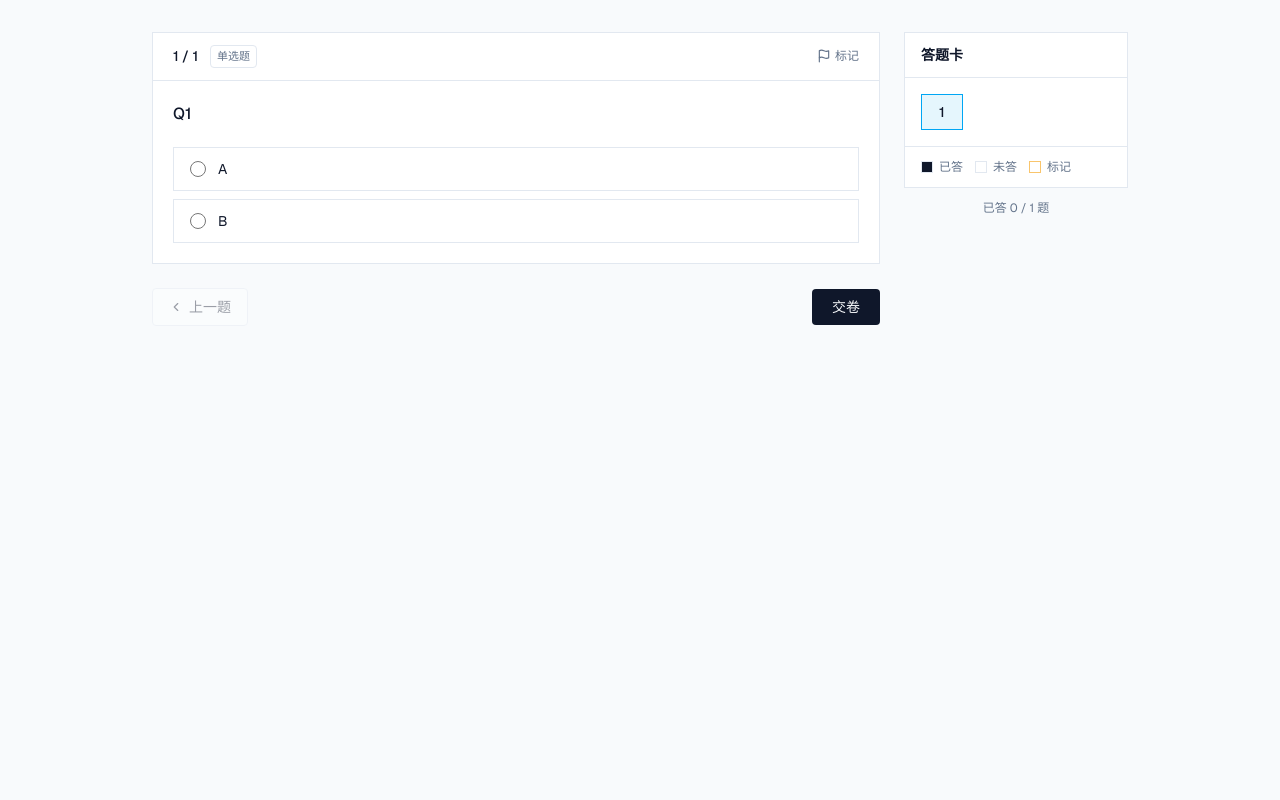
it: QuizPlayer - dialog accessibility › 按 ESC 键应关闭确认对话框
The image size is (1280, 800).
# 直接点击交卷（不答题，触发确认弹窗）
Step 1. Click the button "交卷" → (846, 306), box [812, 288, 880, 324]
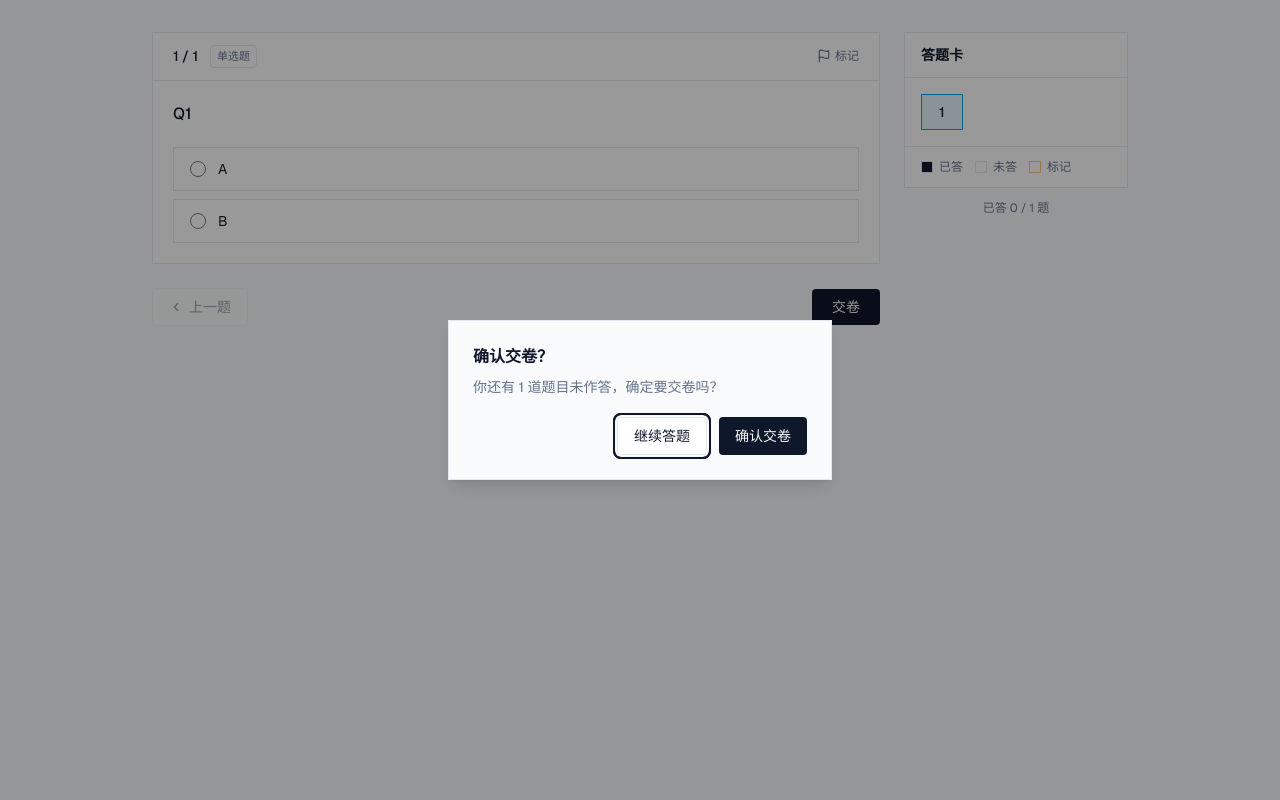
Expected: the dialog is shown
Step 2. Press Escape
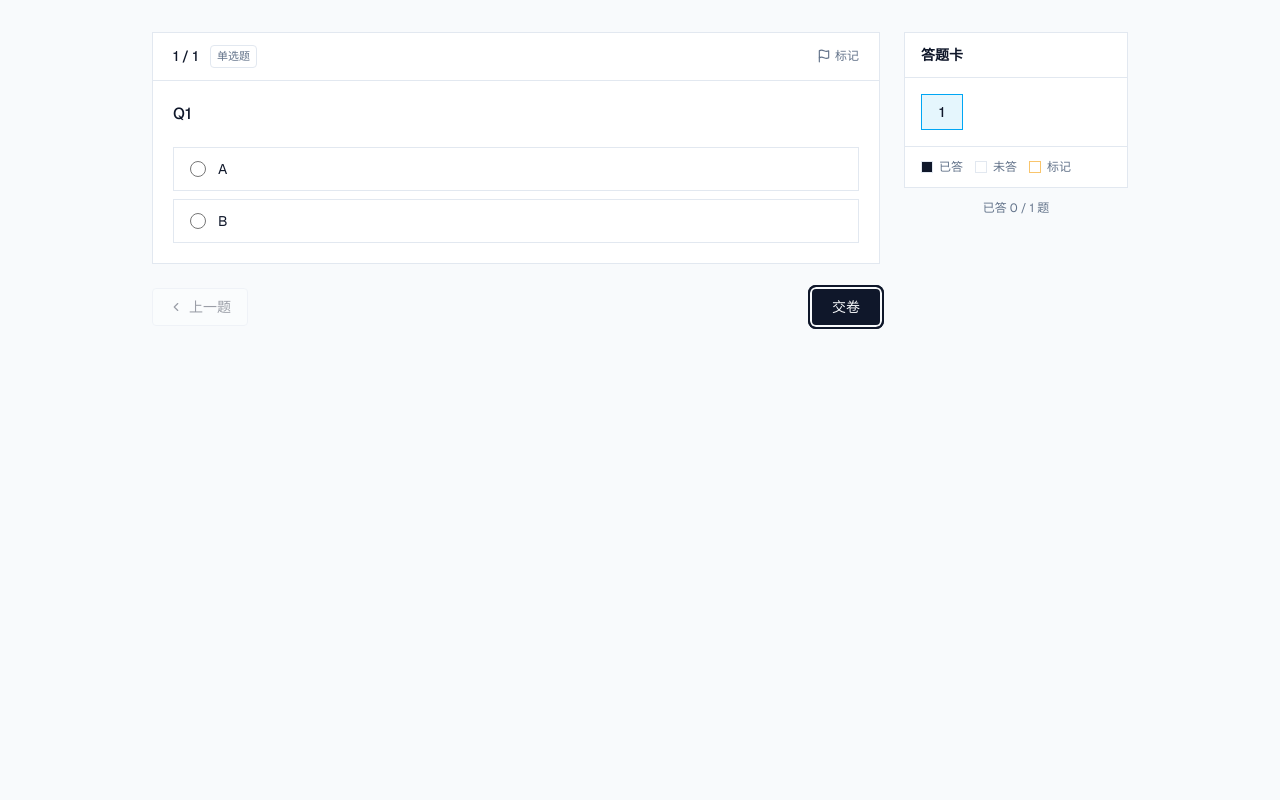
Expected: the dialog is gone
